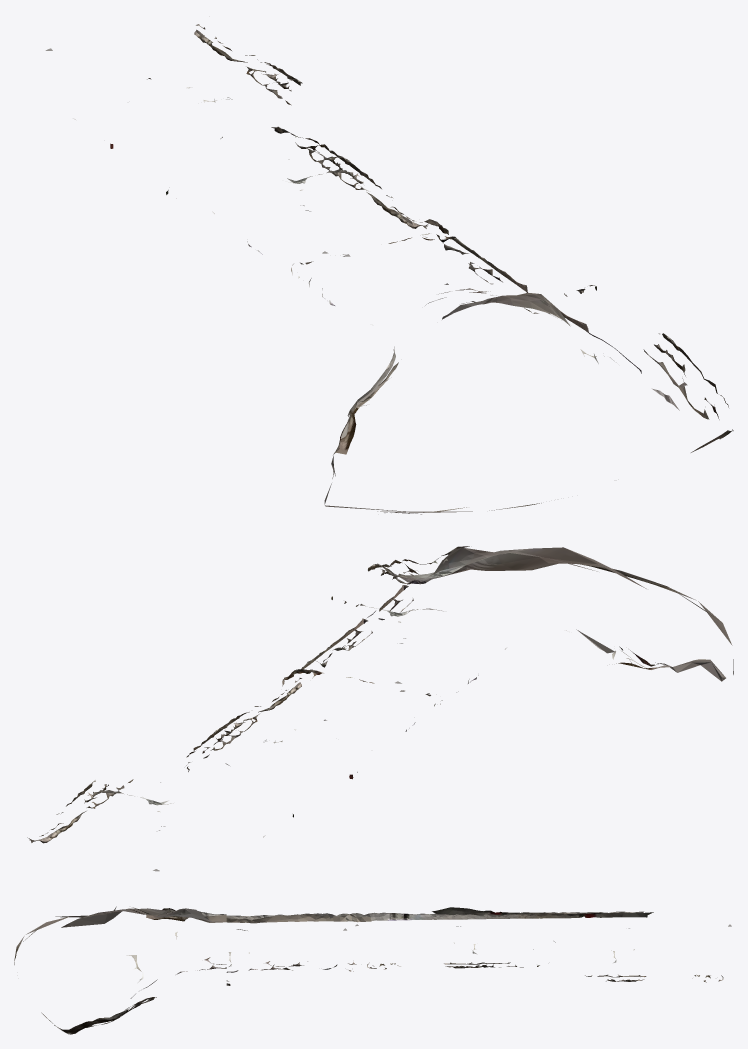
File: basement_3_ceiling_1-transformed.glb
The picture shows the model from 3 angles, top to bottom: view 1: azimuth 30°, elevation 25°; view 2: azimuth 150°, elevation 25°; view 3: azimuth 270°, elevation 25°; orthographic projection. The views are drawn at different scales.
Visible parts, largest first — view 1: basement ceiling; view 2: basement ceiling; view 3: basement ceiling.
Part boxes in pixels (left/top/right/bottom): basement ceiling: left=45, top=24, right=733, bottom=514; basement ceiling: left=27, top=546, right=733, bottom=871; basement ceiling: left=14, top=906, right=731, bottom=1034.
Size of the model in its own units: 7.04 by 2.16 by 16.99.
1 material, 1 textured.
